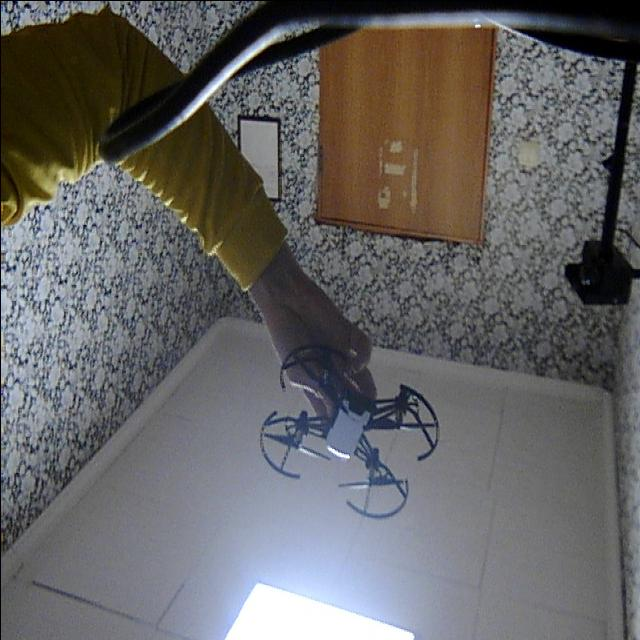drone: (248, 328, 446, 534)
